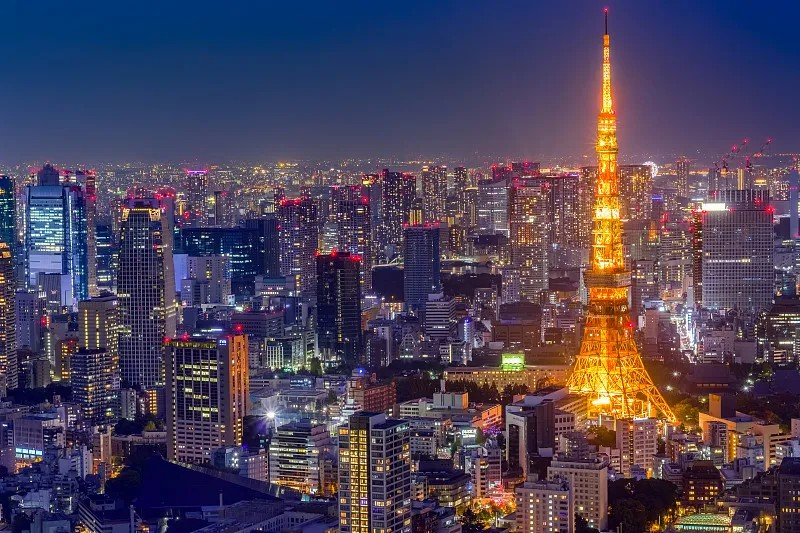Tokyo: (565, 6, 679, 424)
